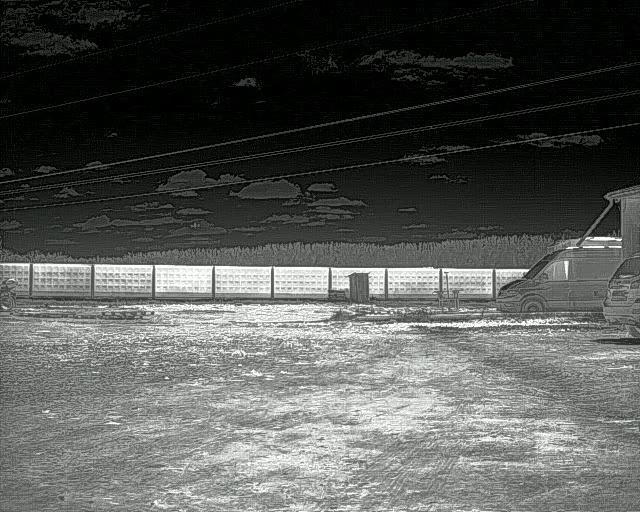ufo-thermal: (190, 221, 201, 230)
